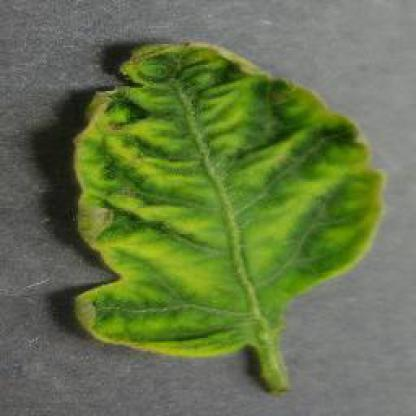bad leaf: (47, 25, 385, 385)
